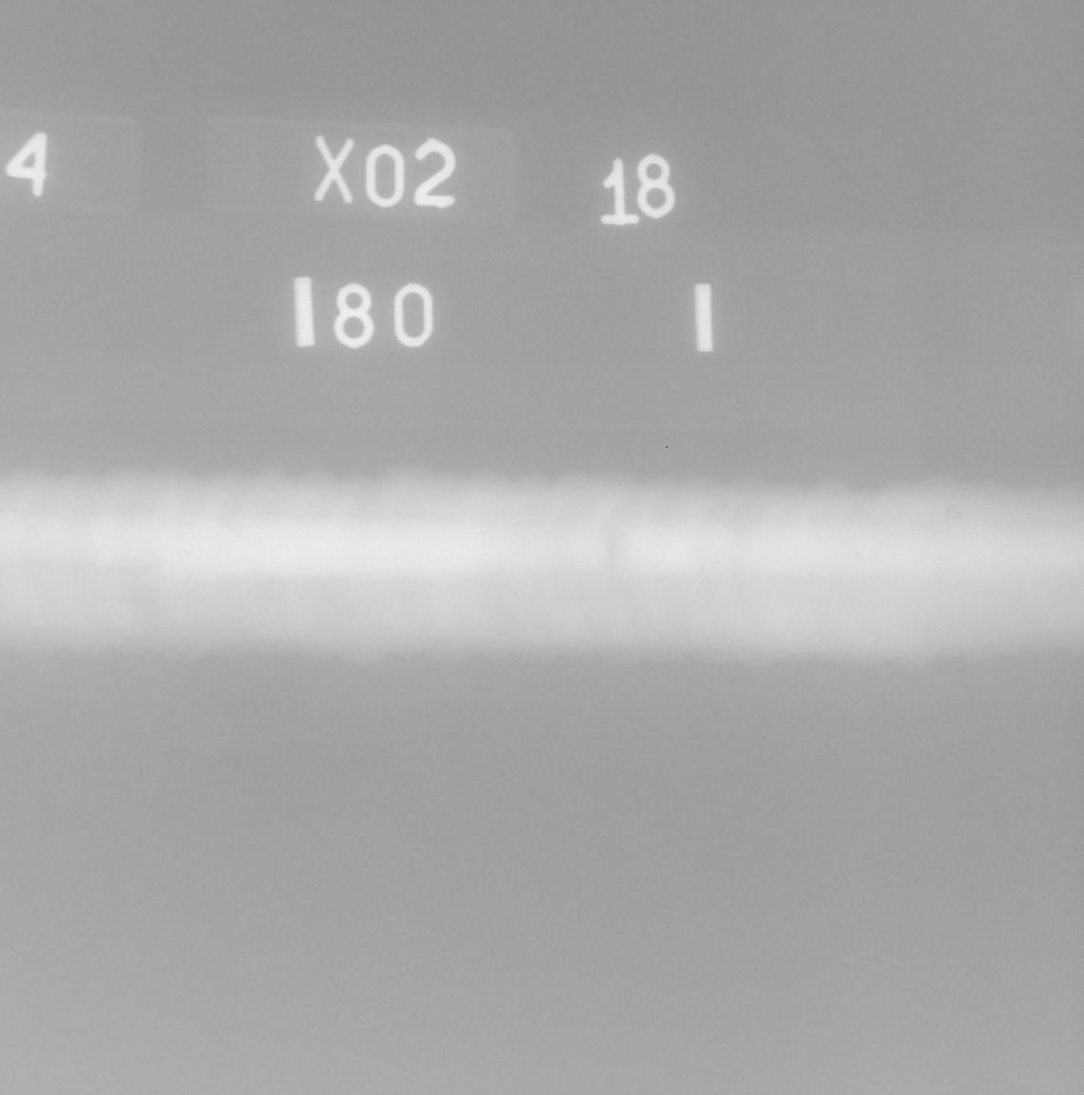Pore/Porosity: (945, 505, 962, 518), (855, 553, 862, 560)
